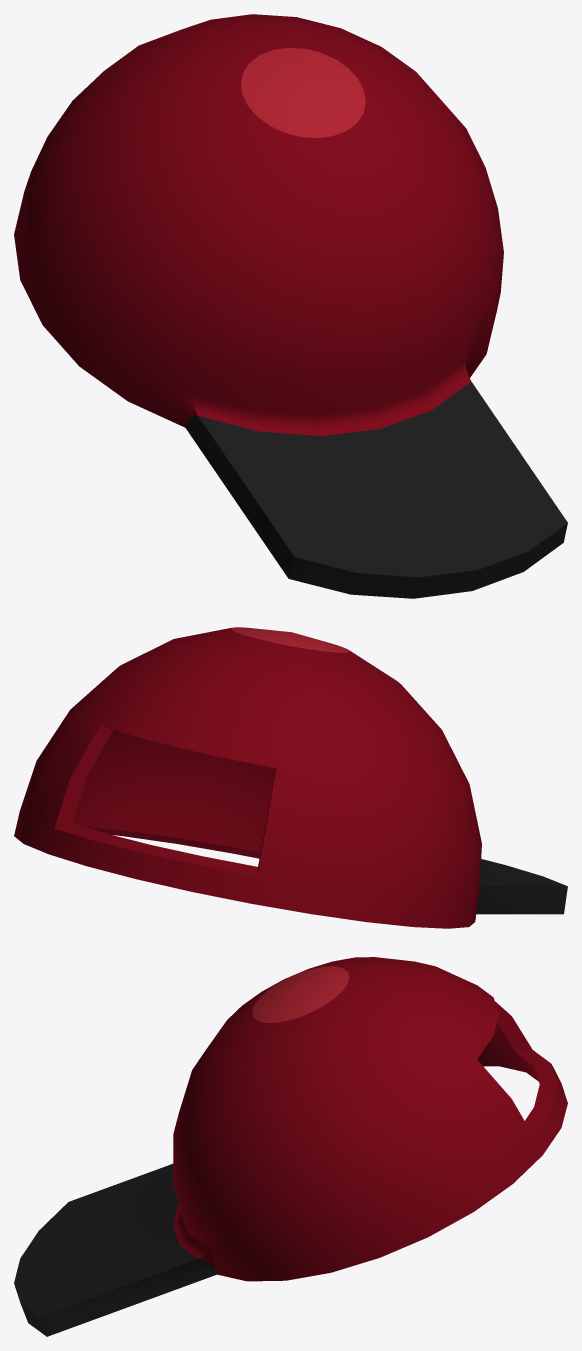
Rendered from gorra.fbx.
3 renders of one model, top to bottom at view 1: azimuth 30°, elevation 25°; view 2: azimuth 150°, elevation 25°; view 3: azimuth 270°, elevation 25°, orthographic. The views are drawn at different scales.
Parts seen in each view (by area): view 1: gorra; view 2: gorra; view 3: gorra.
Part boxes in pixels (x1,y1,x2,y2): gorra: (14, 14, 567, 598); gorra: (14, 627, 567, 928); gorra: (14, 957, 567, 1336).
Size of the model in its own units: 17.99 by 15.98 by 24.58.
